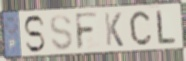C: (128, 10, 153, 47)
F: (74, 11, 100, 52)
K: (103, 12, 125, 48)
L: (156, 10, 178, 46)
S: (49, 13, 75, 53), (23, 14, 47, 54)
